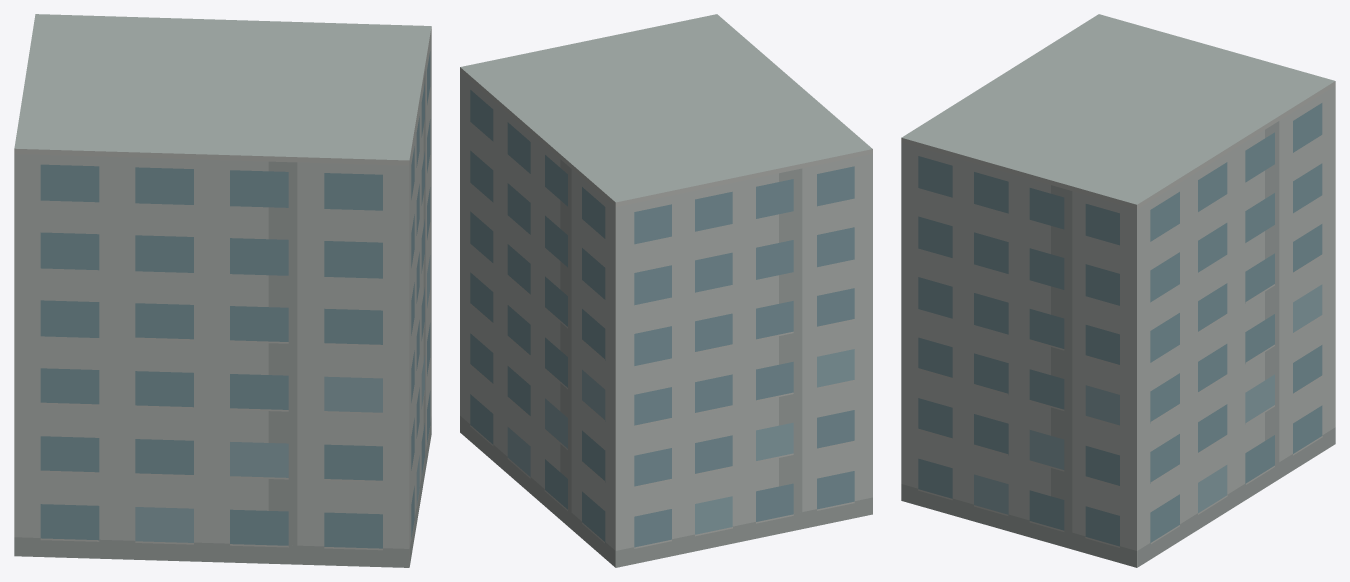
File: survey-upis-32702795.glb
3 renders of one model, left to right at view 1: azimuth 30°, elevation 25°; view 2: azimuth 150°, elevation 25°; view 3: azimuth 270°, elevation 25°, orthographic. The views are drawn at different scales.
Parts seen in each view (by area): view 1: survey-upis-32702795.tmp; view 2: survey-upis-32702795.tmp; view 3: survey-upis-32702795.tmp.
Part boxes in pixels (x1,y1,x2,y2): survey-upis-32702795.tmp: (14,14,431,567); survey-upis-32702795.tmp: (460,14,872,567); survey-upis-32702795.tmp: (901,14,1335,567).
Size of the model in its own units: 21.08 by 18.7 by 20.27.
